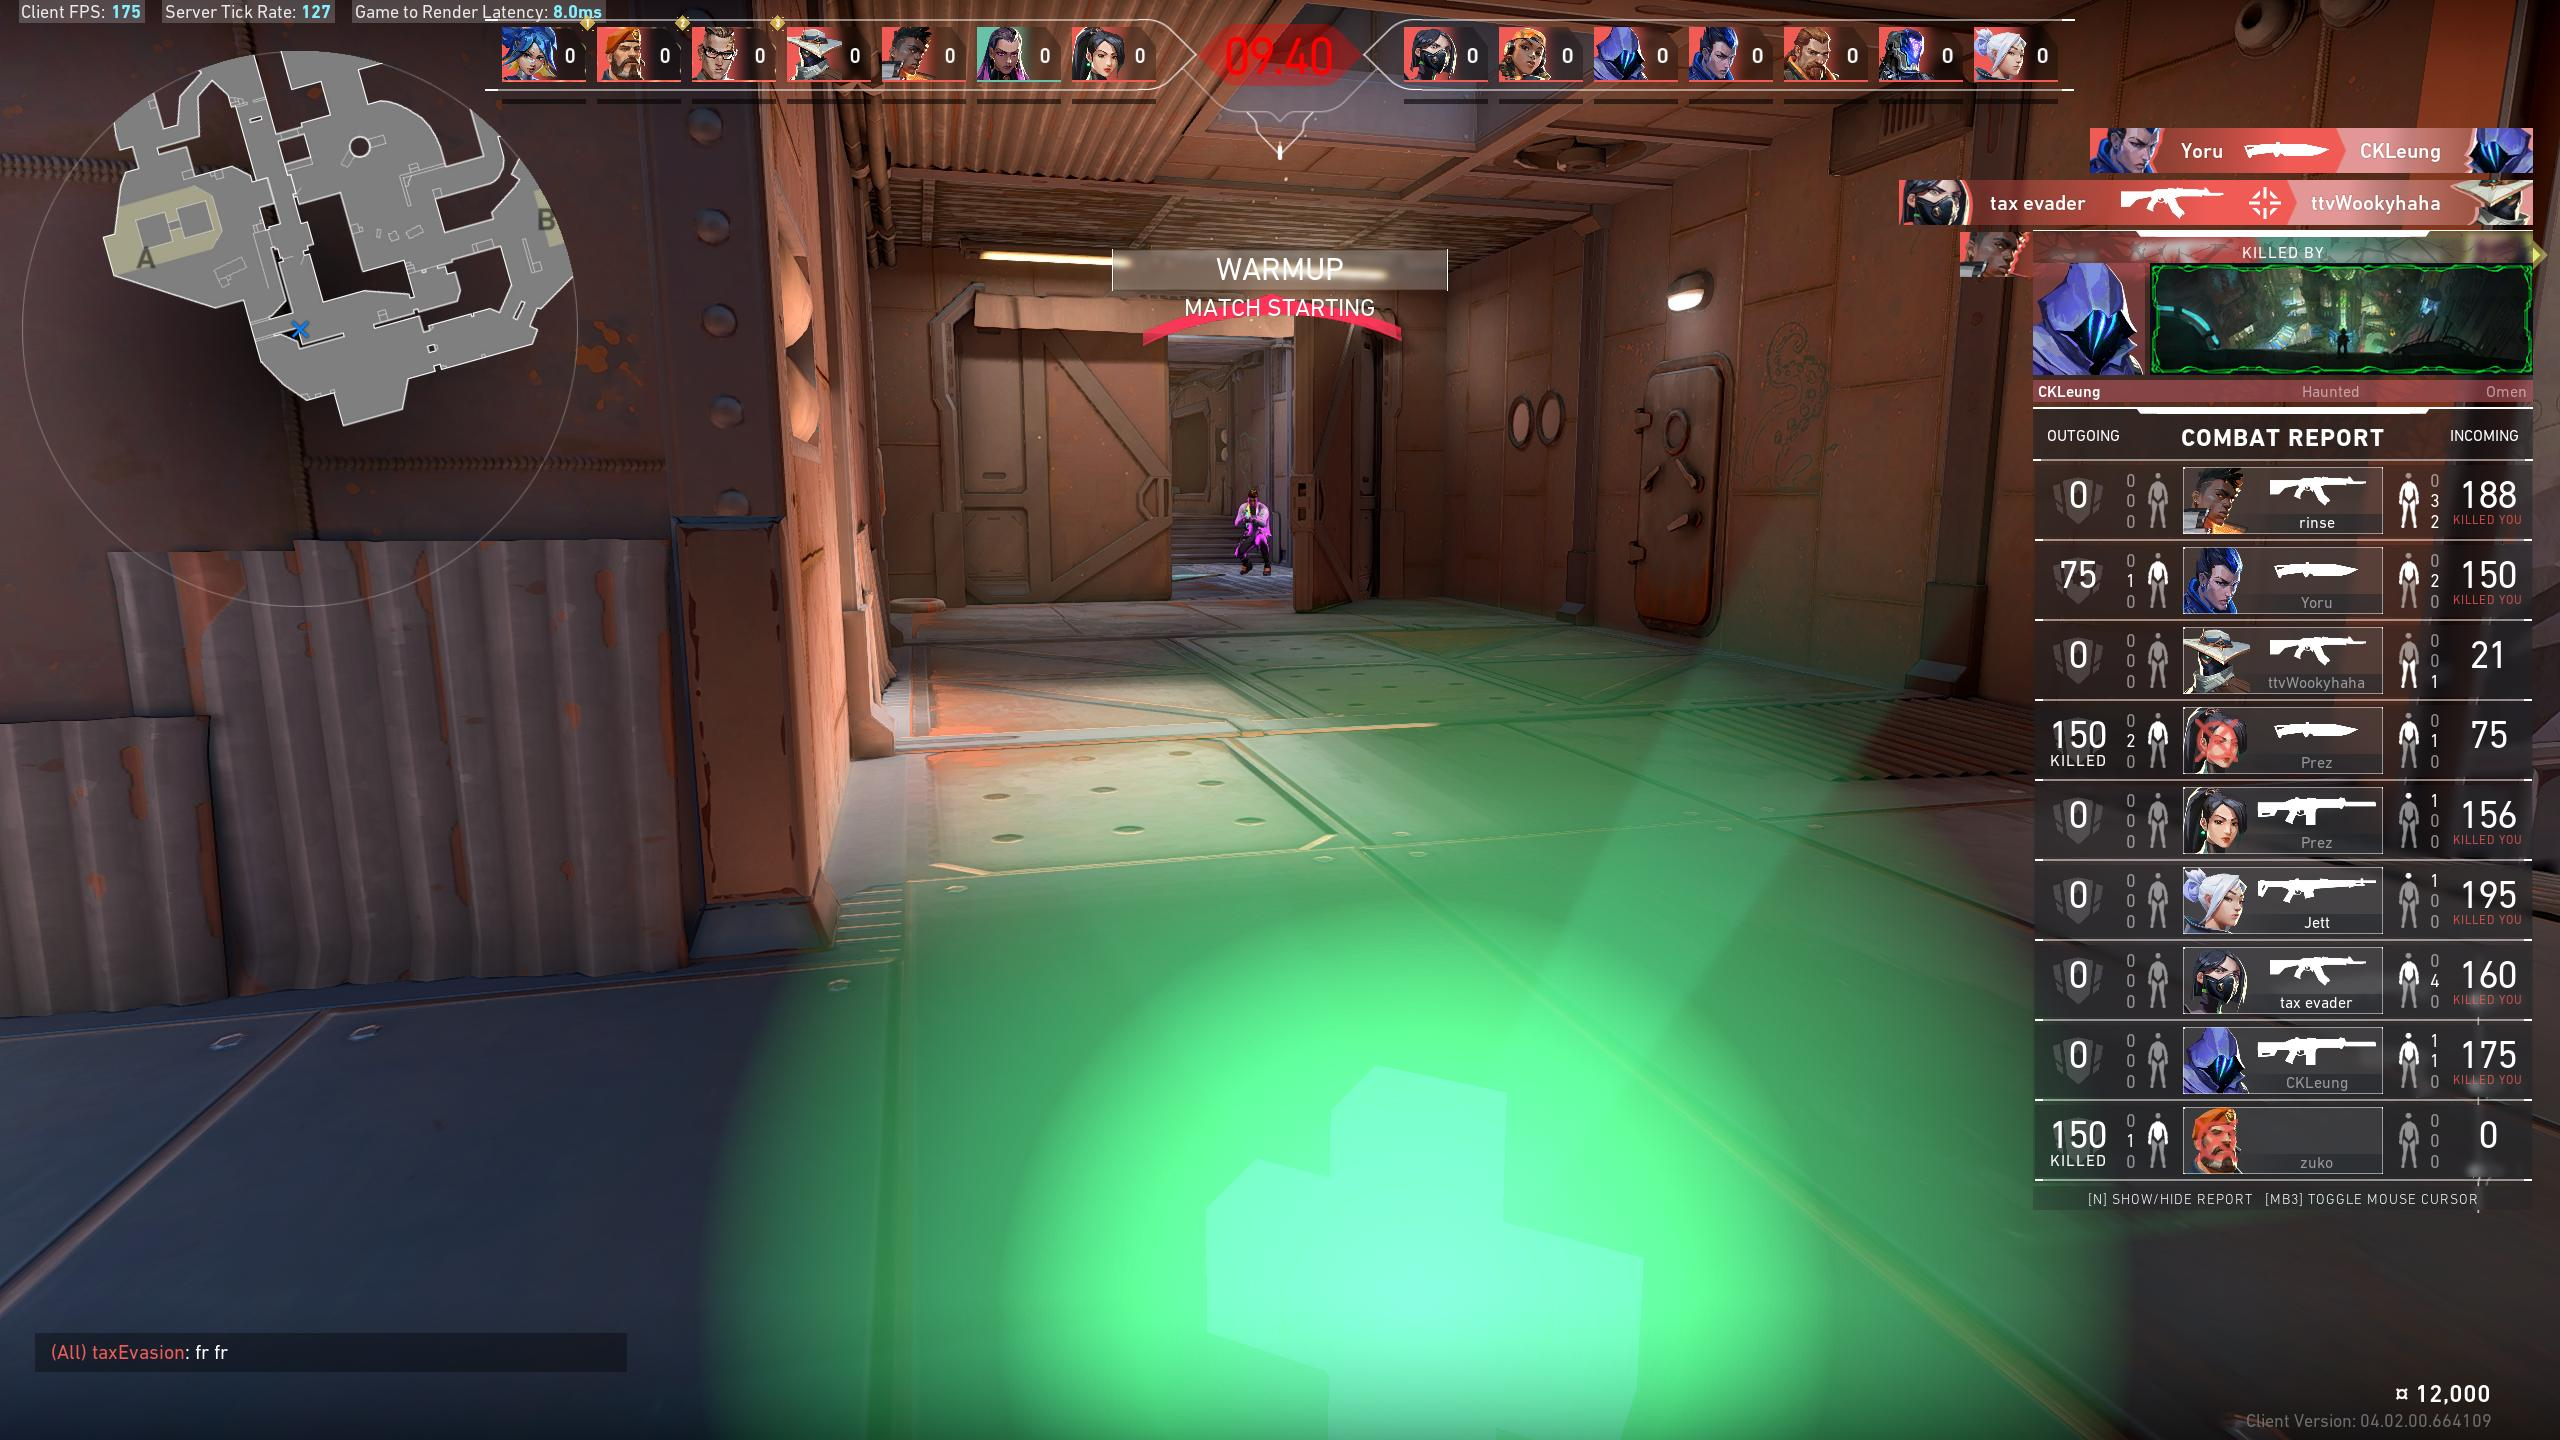enemyBody: (1248, 512, 1261, 533)
enemyHead: (1248, 496, 1255, 508)
